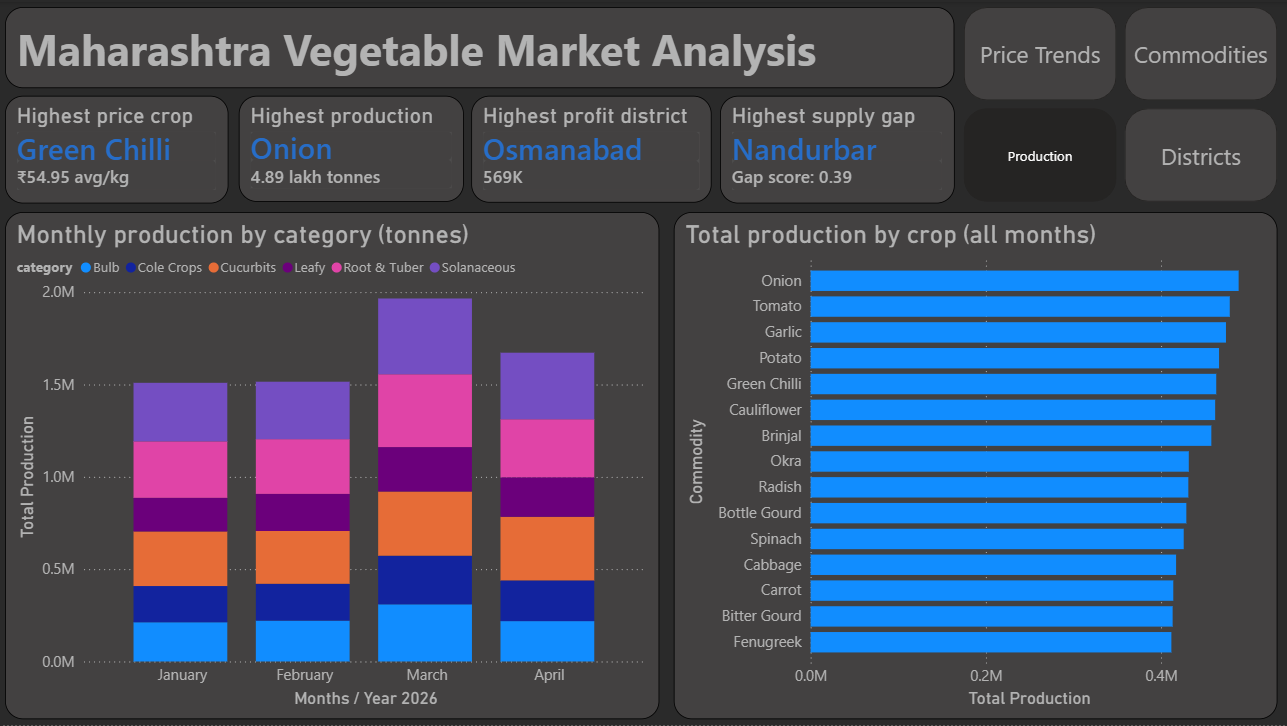

Layout of this report page (visuals, bound fields, positions):
{"tool":"powerbi","page":{"name":"Page 1","canvas":[1280,720],"ordinal":0},"visuals":[{"type":"cardVisual","title":"Highest price crop","fields":{"Data":["mandi_data_cleaned.Highest Price Crop","mandi_data_cleaned.Highest Price Display"]},"box":[5.6,93,222.6,107.1],"z":0},{"type":"clusteredBarChart","title":"District price comparison (April 2026)","fields":{"Y":["mandi_data_cleaned.Avg Price KG"],"Category":["mandi_data_cleaned.district"]},"box":[5.6,208.7,655,504.7],"z":0,"group":"g1"},{"type":"pivotTable","title":"Top 10 district-crop profit combinations","fields":{"Rows":["mandi_data_cleaned.District Crop"],"Values":["mandi_data_cleaned.Avg Profit Score"]},"box":[670.1,209.2,601,504.6],"z":1000,"group":"g1"},{"type":"cardVisual","title":"Highest production","fields":{"Data":["mandi_data_cleaned.Highest Production Crop","mandi_data_cleaned.Highest Production Display"]},"box":[237,93,224,105.7],"z":3000},{"type":"cardVisual","title":"Highest supply gap","fields":{"Data":["mandi_data_cleaned.Highest Supply Gap District","mandi_data_cleaned.Supply Gap Display"]},"box":[716,93,233.9,107],"z":4000},{"type":"cardVisual","title":"Highest profit district","fields":{"Data":["mandi_data_cleaned.Highest Profit District","mandi_data_cleaned.Profit Display"]},"box":[469,93,239.3,106],"z":5000},{"type":"textbox","box":[5.6,5.6,944.7,80.7],"z":6000},{"type":"bookmarkNavigator","box":[958.6,5.6,313,194.8],"z":7000},{"type":"group","id":"g1","title":"Group 1","box":[5.6,208.7,1265.5,505],"z":8000}]}

Visuals, with their boxes in screenshot pixels (x1, y1, x2, y2), scaled from the page's 1280x720 canvas onto the 1287x726 screenshot:
"Highest price crop" cardVisual: Rect(6, 94, 229, 202)
"District price comparison (April 2026)" clusteredBarChart: Rect(6, 210, 664, 719)
"Top 10 district-crop profit combinations" pivotTable: Rect(674, 211, 1278, 720)
"Highest production" cardVisual: Rect(238, 94, 464, 200)
"Highest supply gap" cardVisual: Rect(720, 94, 955, 202)
"Highest profit district" cardVisual: Rect(472, 94, 712, 201)
textbox: Rect(6, 6, 955, 87)
bookmarkNavigator: Rect(964, 6, 1279, 202)
"Group 1" group: Rect(6, 210, 1278, 720)
